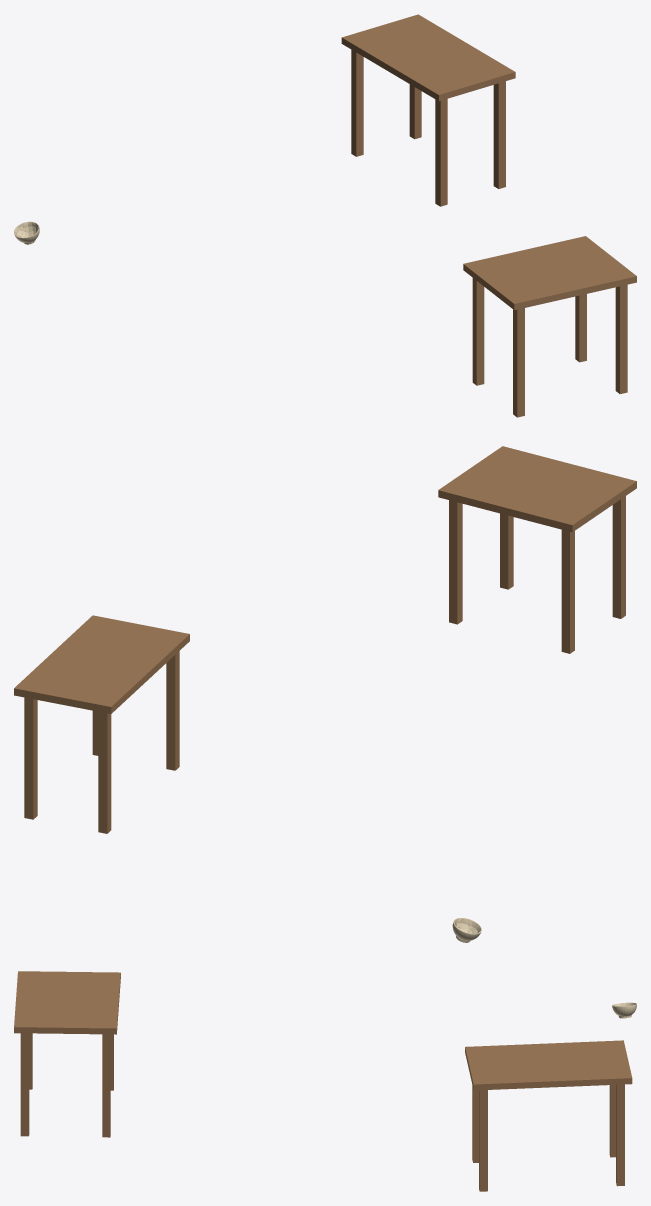
The model's file is g1_02_handover_props.glb.
3 renders of one model, top to bottom at view 1: azimuth 30°, elevation 25°; view 2: azimuth 150°, elevation 25°; view 3: azimuth 270°, elevation 25°, orthographic. The views are drawn at different scales.
Visible parts, largest first — view 1: s000, s005, s009, s001, s003, s002, s006, s008, s007, s004; view 2: s000, s005, s006, s007, s004, s002, s008, s001, s009; view 3: s000, s005, s009, s007, s004, s003, s001, s002.
Part boxes in pixels (<box>): s000: <box>341,14,515,101</box>; s005: <box>463,236,636,310</box>; s009: <box>615,284,627,393</box>; s001: <box>435,99,447,206</box>; s003: <box>493,81,505,188</box>; s002: <box>351,49,363,156</box>; s006: <box>472,278,484,385</box>; s008: <box>513,308,524,417</box>; s007: <box>575,294,586,362</box>; s004: <box>409,84,421,139</box>; s000: <box>14,615,189,713</box>; s005: <box>438,446,636,532</box>; s006: <box>561,529,574,653</box>; s007: <box>449,500,462,624</box>; s004: <box>24,697,37,819</box>; s002: <box>98,711,111,833</box>; s008: <box>612,496,625,618</box>; s001: <box>166,651,179,770</box>; s009: <box>500,513,513,589</box>; s000: <box>465,1040,632,1090</box>; s005: <box>14,971,120,1034</box>; s009: <box>20,1033,29,1136</box>; s007: <box>102,1034,110,1137</box>; s004: <box>616,1084,624,1186</box>; s003: <box>479,1090,487,1191</box>; s001: <box>472,1085,478,1162</box>; s002: <box>609,1084,615,1157</box>.
Bounding box in the file's own units: 2.79 × 0.8325 × 3.76.
